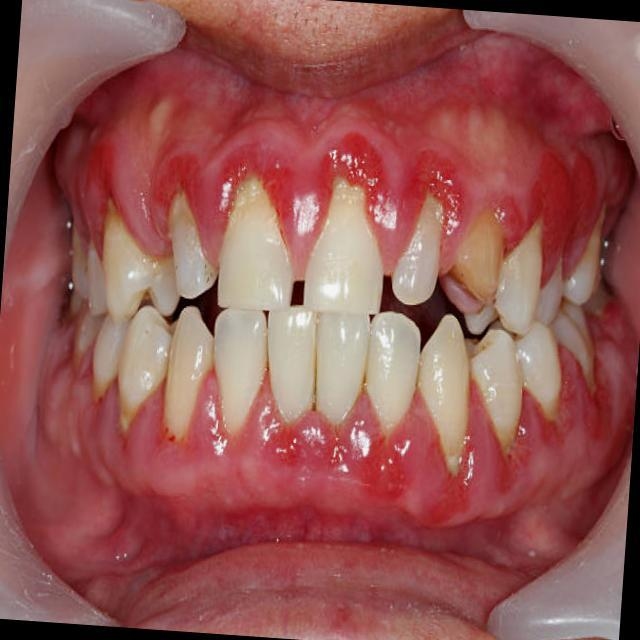bleeding: (150, 426, 203, 471)
redness: (314, 113, 386, 177), (210, 123, 291, 178), (402, 161, 448, 214), (168, 150, 205, 208)
swelling: (74, 120, 160, 212), (436, 93, 537, 159), (491, 198, 545, 267), (548, 343, 600, 409), (394, 383, 450, 443), (251, 369, 287, 445)
